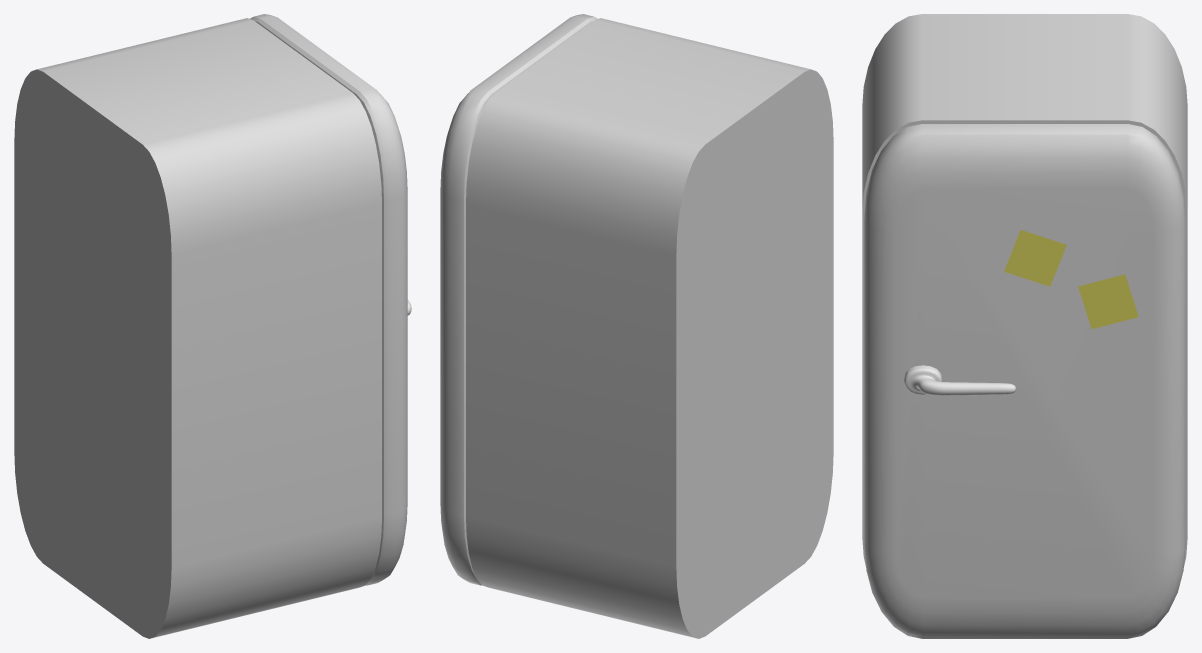
File: refrigerator.fbx
The picture shows the model from 3 angles, left to right: view 1: azimuth 30°, elevation 25°; view 2: azimuth 150°, elevation 25°; view 3: azimuth 270°, elevation 25°; orthographic projection. The views are drawn at different scales.
Visible parts, largest first — view 1: Cylinder.001, Plane.001; view 2: Cylinder.001, Plane.001; view 3: Plane.001, Cylinder.001, Plane, Cube.002.
Boxes of the visible parts, x1,y1,x2,y2 form: Cylinder.001: [14, 18, 381, 638]; Plane.001: [250, 14, 407, 585]; Cylinder.001: [466, 18, 833, 638]; Plane.001: [440, 14, 597, 585]; Plane.001: [864, 124, 1185, 638]; Cylinder.001: [862, 14, 1187, 565]; Plane: [1004, 230, 1138, 328]; Cube.002: [904, 365, 1015, 395].
Size of the model in its own units: 289 by 495 by 287.
